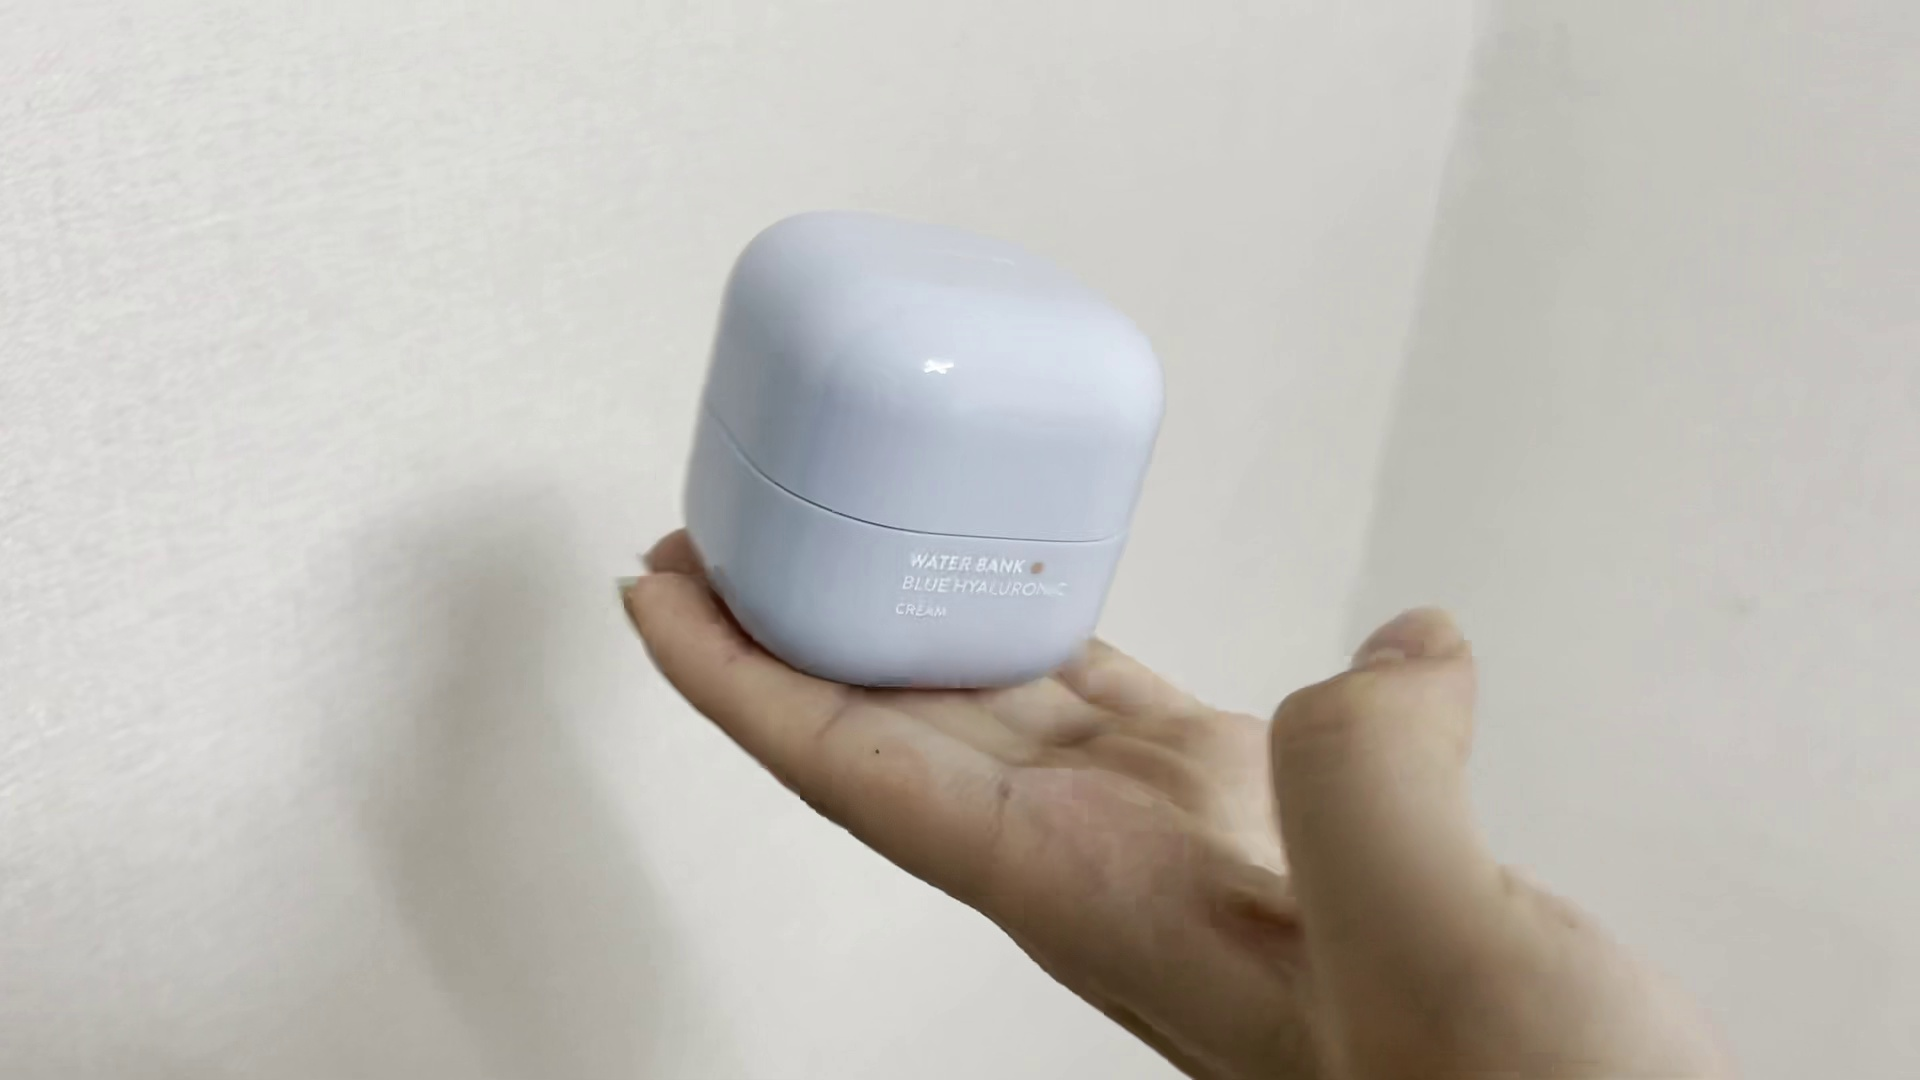cream: (686, 208, 1158, 688)
